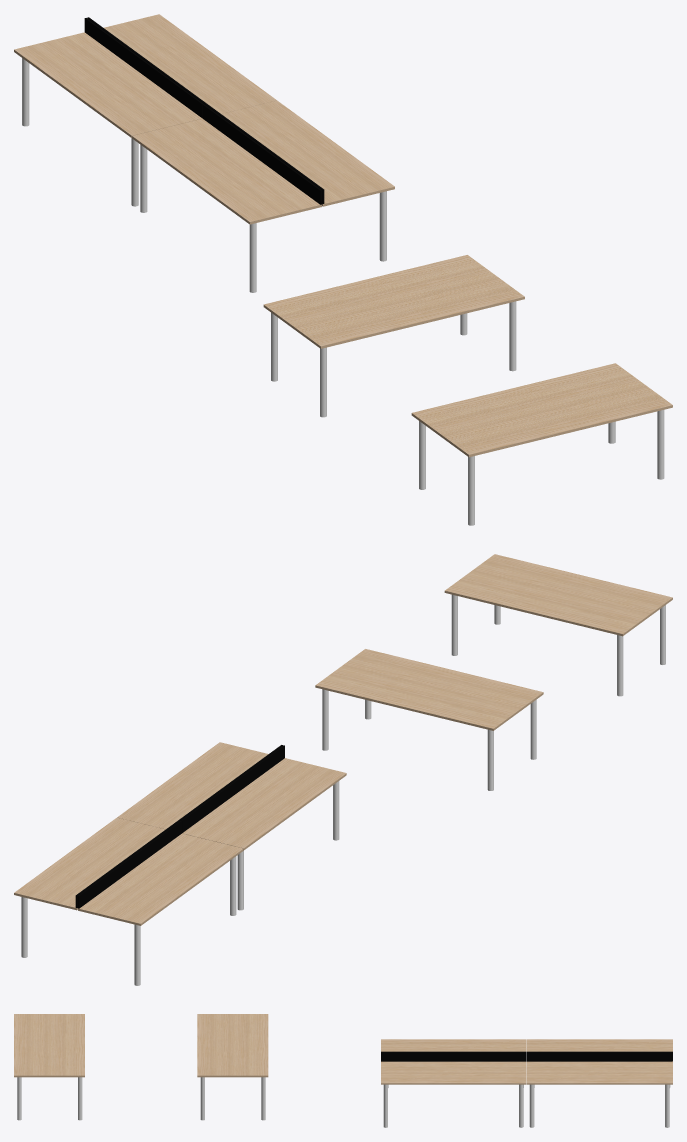
The model's file is Table.fbx.
The picture shows the model from 3 angles, top to bottom: view 1: azimuth 30°, elevation 25°; view 2: azimuth 150°, elevation 25°; view 3: azimuth 270°, elevation 25°; orthographic projection. The views are drawn at different scales.
Parts seen in each view (by area): view 1: Table; view 2: Table; view 3: Table.
Boxes of the visible parts, x1,y1,x2,y2 form: Table: (14,14,672,525); Table: (14,554,672,985); Table: (14,1014,672,1127).
Size of the model in its own units: 2.44 by 0.9274 by 10.1.
